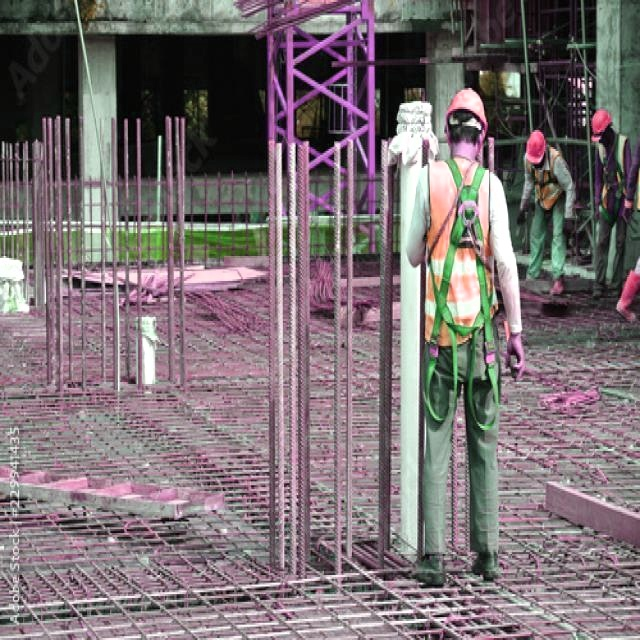safety belt: (422, 170, 507, 441), (513, 160, 574, 219), (590, 147, 634, 223)
